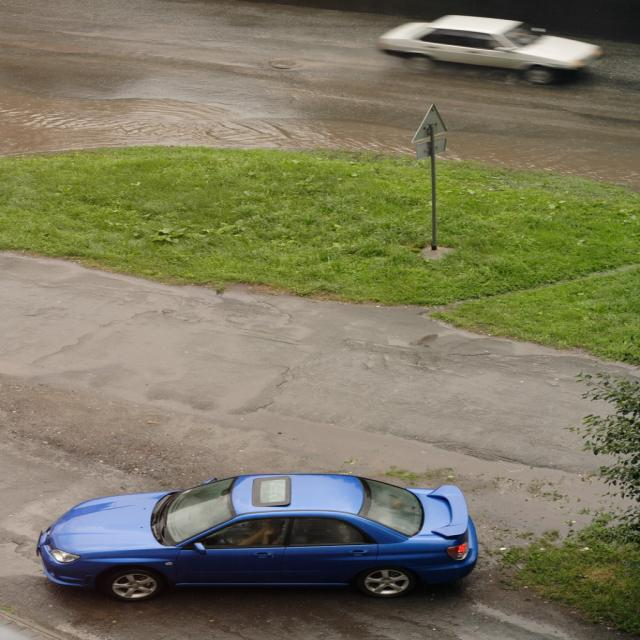car: (42, 482, 493, 609), (370, 11, 602, 88)
